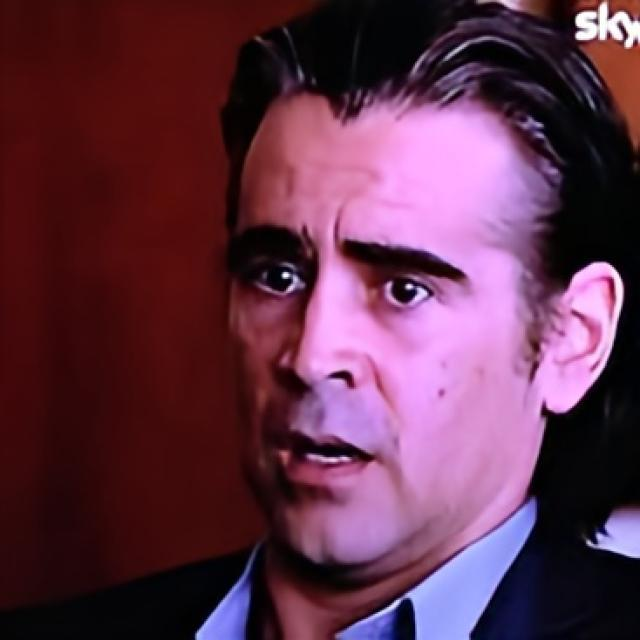fear: (223, 84, 541, 572)
